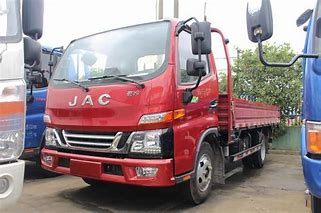smalltruck: (40, 20, 286, 203)
